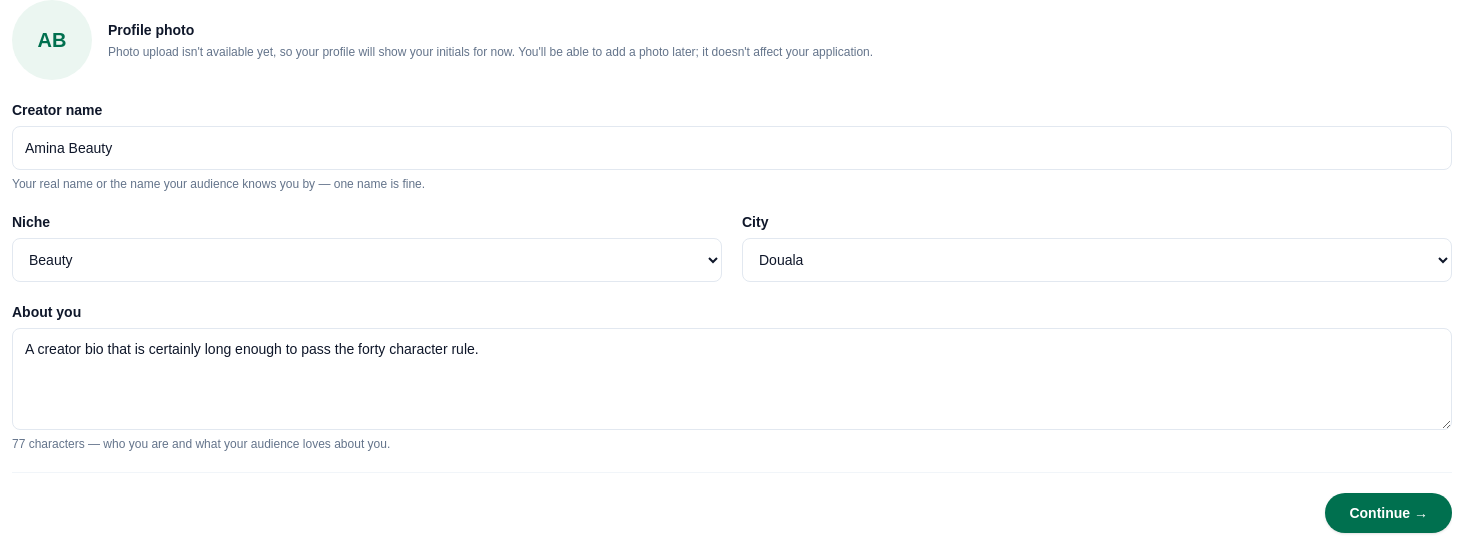
Test: profile step › a double click sends one request and shows the saving state
Double-click the button "Continue →": coordinates (1389, 513) [1326, 493, 1452, 533]
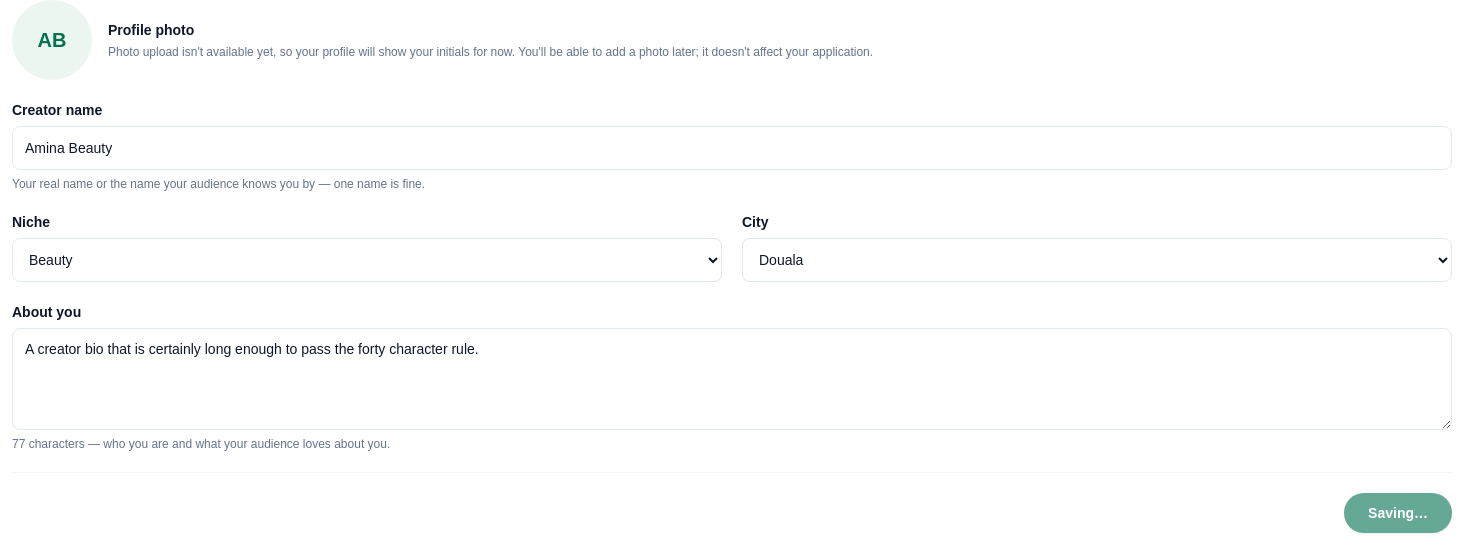
expect the button "Saving…" is disabled: met, box [1344, 493, 1452, 533]
